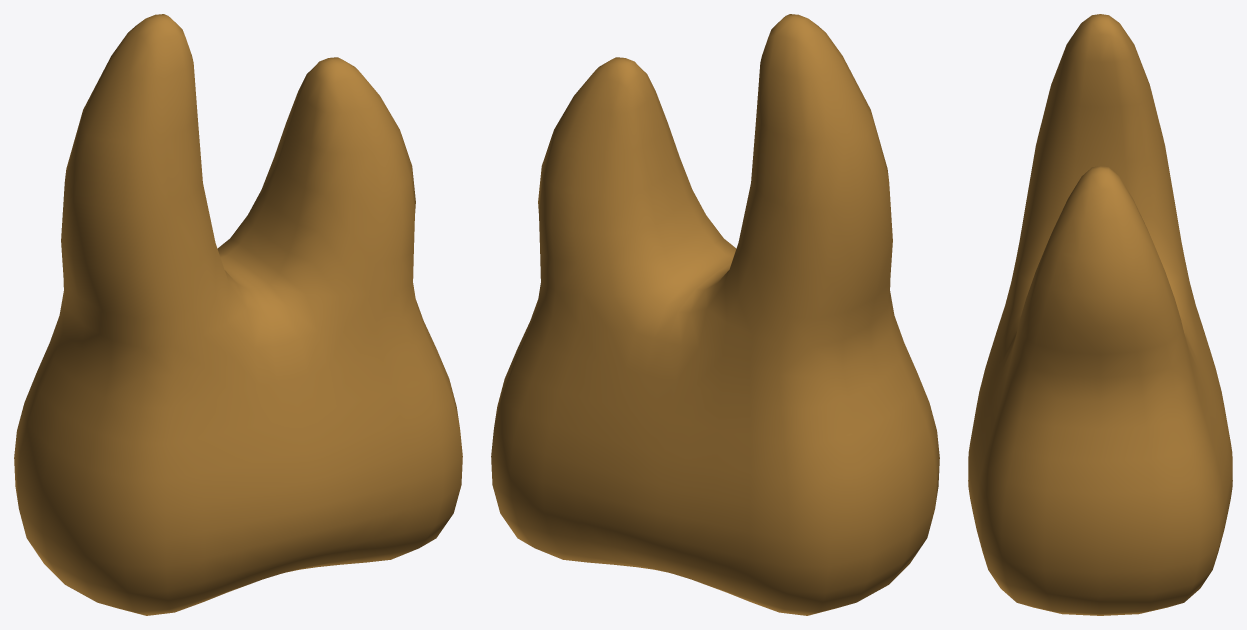
The model's file is obj_treasure_08.fbx.
3 renders of one model, left to right at view 1: azimuth 30°, elevation 25°; view 2: azimuth 150°, elevation 25°; view 3: azimuth 270°, elevation 25°, orthographic. The views are drawn at different scales.
Parts seen in each view (by area): view 1: Cube.034; view 2: Cube.034; view 3: Cube.034.
Boxes of the visible parts, bbox=[...] form: Cube.034: bbox=[14, 14, 462, 615]; Cube.034: bbox=[491, 14, 939, 615]; Cube.034: bbox=[968, 14, 1232, 615].
Bounding box in the file's own units: 7.35 × 10 × 4.79.
